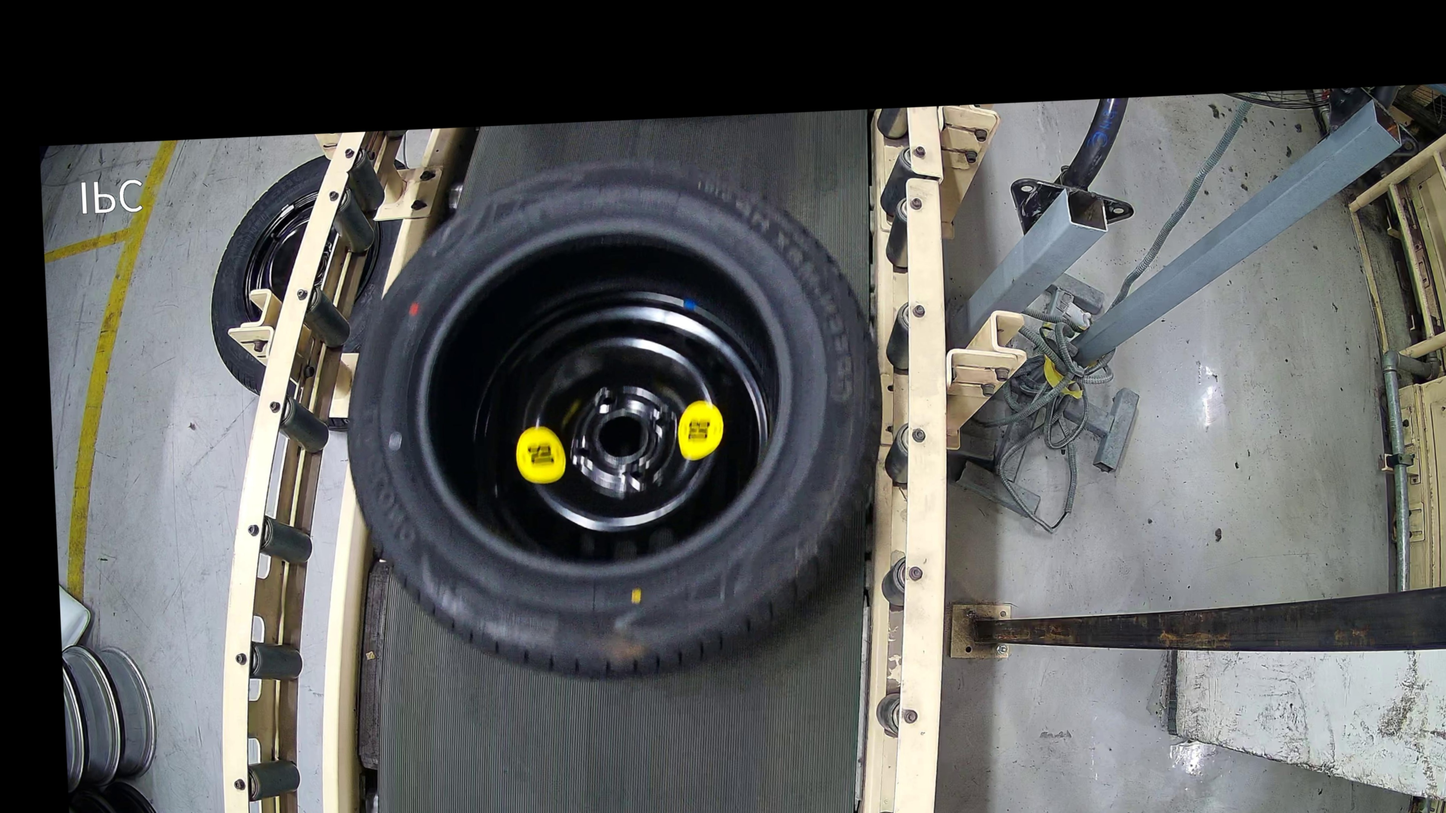80_label: (514, 425, 568, 486), (675, 398, 727, 460)
simple_wheel: (456, 279, 783, 581)
